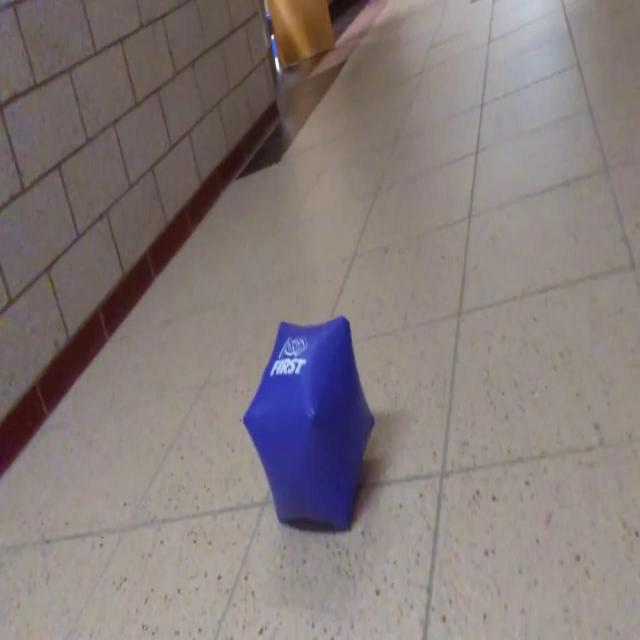frc_cube: (243, 316, 375, 534)
